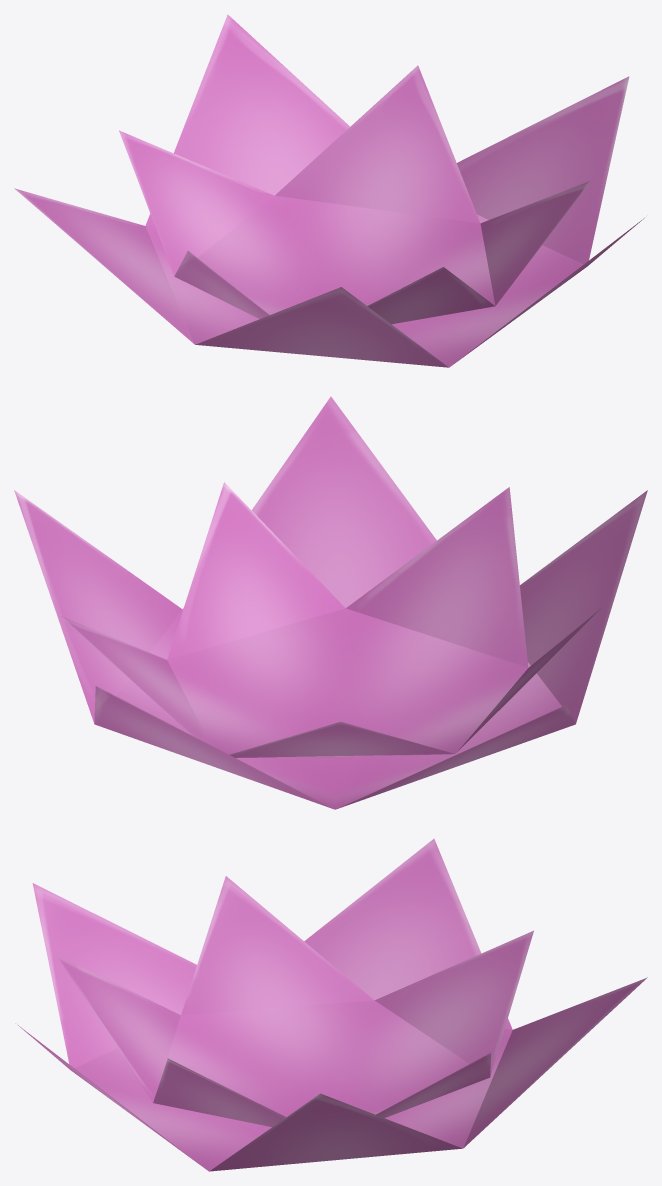
Rendered from SM_Enviro_Flower03.fbx.
The picture shows the model from 3 angles, top to bottom: view 1: azimuth 30°, elevation 25°; view 2: azimuth 150°, elevation 25°; view 3: azimuth 270°, elevation 25°; orthographic projection. The views are drawn at different scales.
Parts seen in each view (by area): view 1: SM_Enviro_Flower03; view 2: SM_Enviro_Flower03; view 3: SM_Enviro_Flower03.
Part boxes in pixels (x1=…): SM_Enviro_Flower03: x1=14, y1=14, x2=644, y2=367; SM_Enviro_Flower03: x1=14, y1=396, x2=647, y2=809; SM_Enviro_Flower03: x1=15, y1=838, x2=647, y2=1171.
Size of the model in its own units: 33.2 by 11.66 by 32.63.
